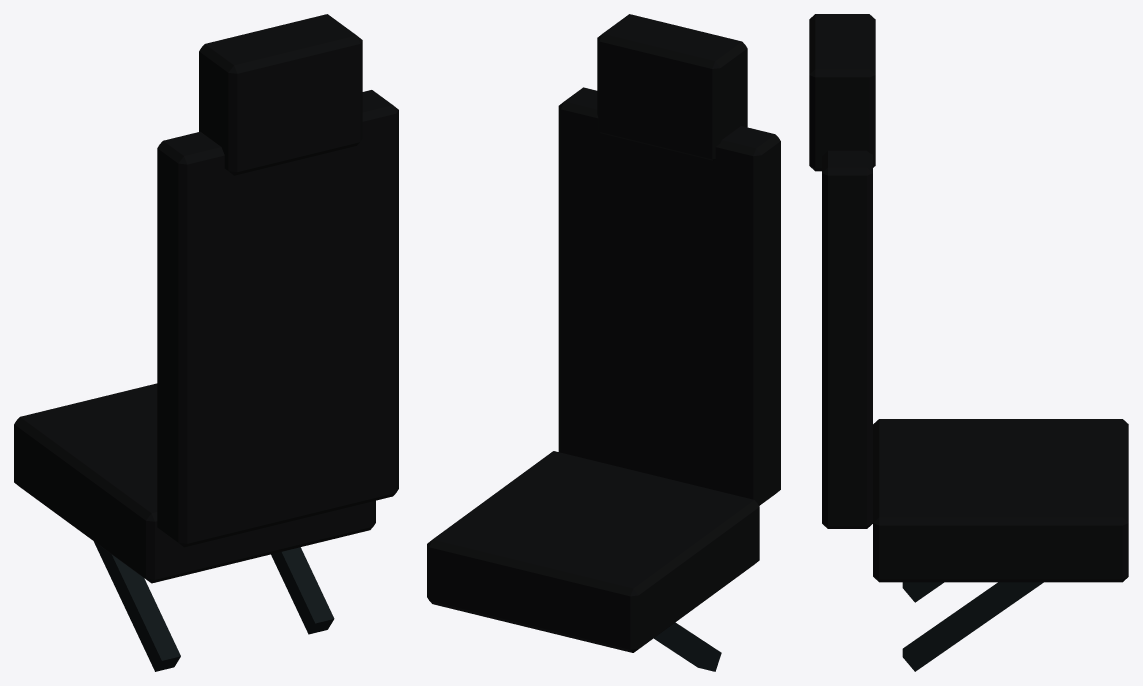
Rendered from Cockpit_FixedWing__Seat.obj.
3 renders of one model, left to right at view 1: azimuth 30°, elevation 25°; view 2: azimuth 150°, elevation 25°; view 3: azimuth 270°, elevation 25°, orthographic. The views are drawn at different scales.
Visible parts, largest first — view 1: Seat_back, Seat_cushion, Headrest, Seat_support, Seat_support.001; view 2: Seat_back, Seat_cushion, Headrest, Seat_support; view 3: Seat_cushion, Seat_back, Headrest, Seat_support.001, Seat_support.
Boxes of the visible parts, <box> form: Seat_back: <box>157,90,398,547</box>; Seat_cushion: <box>14,383,375,583</box>; Headrest: <box>199,14,362,175</box>; Seat_support: <box>94,541,180,671</box>; Seat_support.001: <box>271,547,334,634</box>; Seat_back: <box>558,87,780,505</box>; Seat_cushion: <box>427,451,759,652</box>; Headrest: <box>597,14,747,160</box>; Seat_support: <box>654,622,721,671</box>; Seat_cushion: <box>873,419,1128,582</box>; Seat_back: <box>822,150,872,528</box>; Headrest: <box>809,14,875,171</box>; Seat_support.001: <box>902,582,1043,671</box>; Seat_support: <box>902,582,943,602</box>.
Size of the model in its own units: 0.48 by 1.28 by 0.625.
